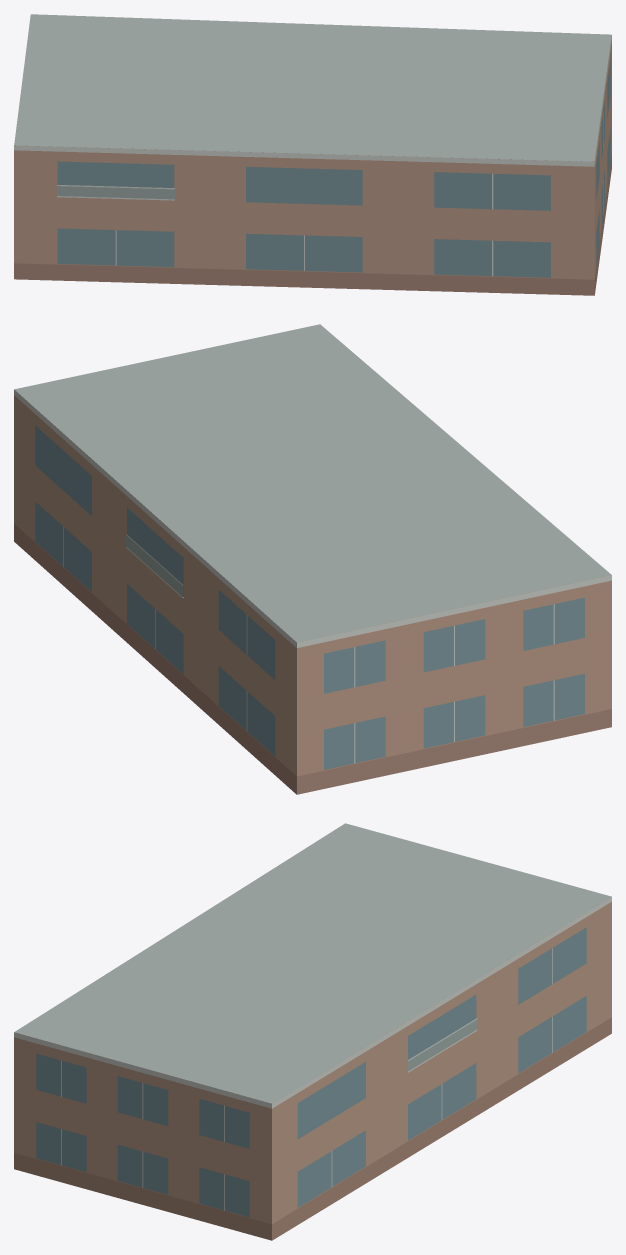
The model's file is survey-upis-32850674.glb.
3 renders of one model, top to bottom at view 1: azimuth 30°, elevation 25°; view 2: azimuth 150°, elevation 25°; view 3: azimuth 270°, elevation 25°, orthographic. The views are drawn at different scales.
Visible parts, largest first — view 1: survey-upis-32850674.tmp; view 2: survey-upis-32850674.tmp; view 3: survey-upis-32850674.tmp.
Part boxes in pixels (<box>): survey-upis-32850674.tmp: <box>14,14,611,295</box>; survey-upis-32850674.tmp: <box>14,324,611,794</box>; survey-upis-32850674.tmp: <box>14,823,611,1240</box>.
Size of the model in its own units: 28.94 by 6.59 by 26.07.
